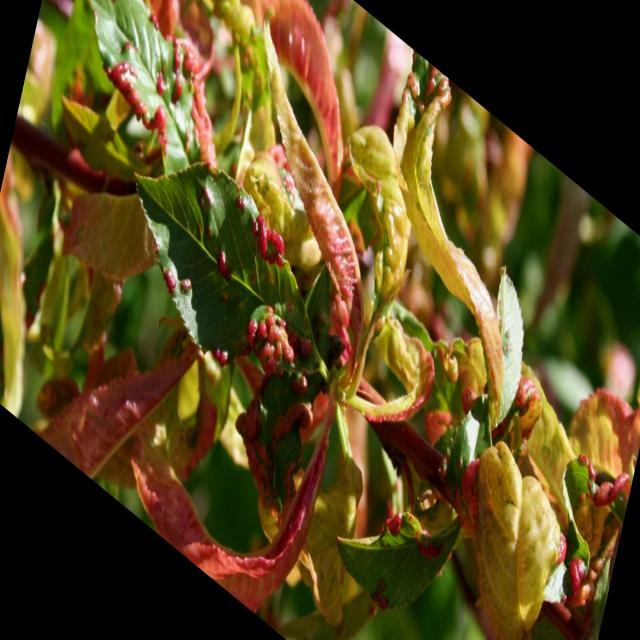peach_leaf_curl: (230, 165, 360, 486), (84, 16, 216, 208), (551, 412, 640, 640)
